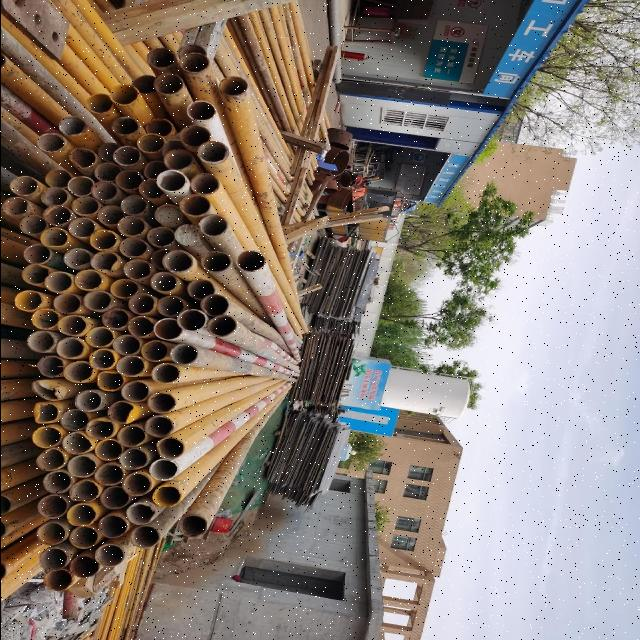pipe: (34, 492, 72, 520), (35, 519, 71, 545), (115, 446, 152, 471), (162, 248, 195, 275), (67, 477, 101, 503), (162, 145, 198, 169), (144, 412, 177, 438), (177, 124, 211, 149), (234, 248, 268, 273), (41, 568, 76, 592), (93, 543, 125, 569), (66, 502, 98, 528), (32, 448, 68, 471), (154, 169, 188, 193), (136, 175, 170, 199), (92, 462, 126, 486), (153, 71, 185, 96), (178, 307, 210, 332), (118, 258, 154, 280), (29, 401, 63, 424), (37, 546, 71, 569), (64, 358, 94, 384), (98, 514, 128, 540), (68, 525, 98, 551), (196, 140, 228, 164), (108, 82, 140, 106), (152, 317, 184, 341), (26, 329, 58, 353), (88, 347, 120, 371), (177, 514, 209, 538), (130, 525, 162, 549), (100, 486, 132, 510), (62, 432, 94, 456), (31, 424, 63, 448), (154, 202, 184, 227), (144, 47, 178, 69), (64, 147, 98, 169), (54, 336, 88, 358), (64, 455, 98, 477), (58, 114, 90, 137), (38, 225, 70, 248), (95, 369, 127, 392), (128, 292, 156, 318), (70, 553, 98, 579), (184, 100, 217, 122), (18, 264, 51, 286), (190, 172, 220, 196), (112, 143, 142, 167), (200, 214, 230, 238), (200, 250, 230, 274), (146, 224, 176, 248), (156, 293, 186, 317), (42, 269, 72, 293), (82, 288, 112, 312), (150, 361, 180, 385), (146, 390, 176, 414), (151, 484, 181, 508), (116, 424, 146, 448), (122, 472, 152, 496), (42, 470, 72, 494), (178, 195, 210, 217), (118, 235, 150, 257), (62, 247, 94, 269), (109, 278, 141, 300), (140, 340, 172, 362), (101, 308, 133, 330), (61, 406, 88, 432), (66, 174, 95, 198), (29, 308, 62, 329), (89, 179, 119, 202), (42, 204, 72, 227), (36, 355, 66, 378), (107, 401, 137, 424), (216, 76, 248, 97), (34, 132, 66, 153), (180, 52, 210, 74), (84, 91, 114, 113), (144, 116, 174, 138), (120, 193, 150, 215), (88, 228, 118, 250), (22, 242, 52, 264), (200, 294, 230, 316), (204, 315, 234, 337), (149, 271, 179, 293), (170, 342, 200, 364), (52, 292, 82, 314), (110, 334, 140, 356), (58, 316, 88, 338), (149, 458, 179, 480), (116, 354, 146, 376), (74, 390, 104, 412), (86, 418, 116, 440), (94, 439, 124, 461), (34, 379, 64, 401), (1, 195, 29, 218), (136, 133, 168, 153), (66, 218, 98, 238), (16, 215, 46, 236), (176, 222, 202, 246), (131, 74, 159, 96), (118, 215, 146, 237), (97, 204, 125, 226), (75, 269, 103, 291), (157, 437, 185, 459), (120, 380, 148, 402), (142, 158, 172, 178), (86, 328, 116, 348), (187, 277, 214, 299), (15, 290, 42, 312), (10, 175, 38, 196), (42, 168, 70, 188), (92, 252, 120, 272), (126, 317, 154, 337), (125, 504, 153, 524), (73, 195, 99, 216), (111, 116, 138, 136), (92, 162, 119, 182), (116, 170, 142, 190), (40, 187, 66, 207), (175, 44, 207, 60)
